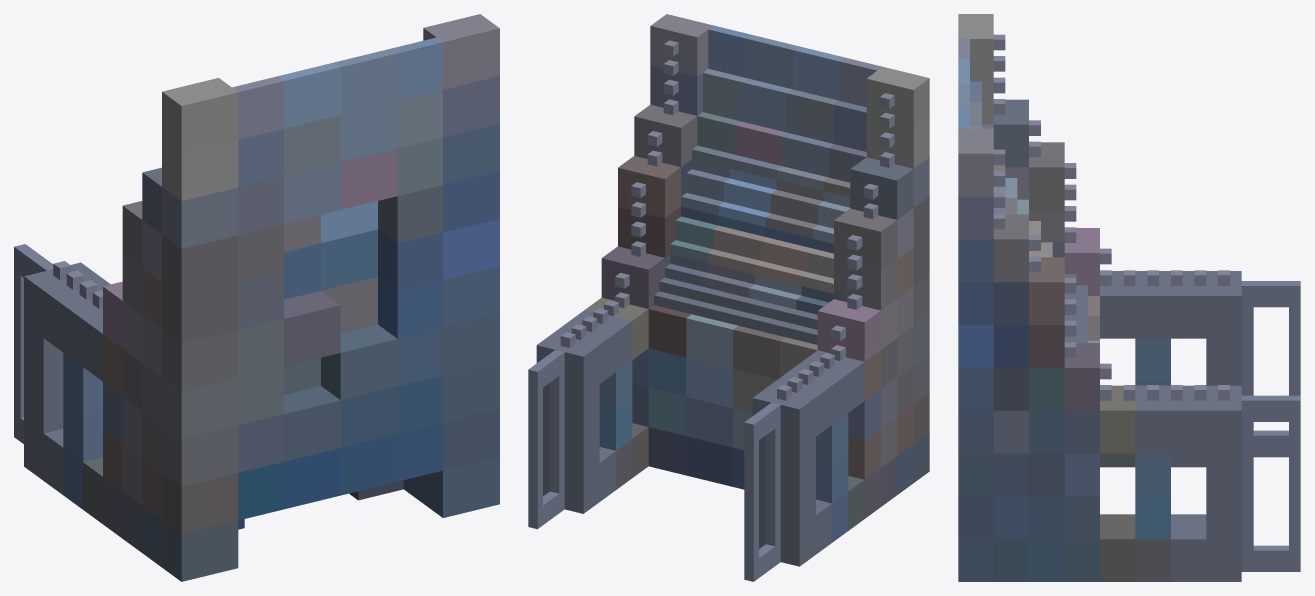
The model's file is MetalRamp.fbx.
3 renders of one model, left to right at view 1: azimuth 30°, elevation 25°; view 2: azimuth 150°, elevation 25°; view 3: azimuth 270°, elevation 25°, orthographic. The views are drawn at different scales.
Visible parts, largest first — view 1: imagetostl_mesh0; view 2: imagetostl_mesh0; view 3: imagetostl_mesh0.
Boxes of the visible parts, <box> form: imagetostl_mesh0: <box>14,14,499,581</box>; imagetostl_mesh0: <box>528,14,929,581</box>; imagetostl_mesh0: <box>958,14,1300,581</box>.
Bounding box in the file's own units: 4.2 × 6 × 4.35.
